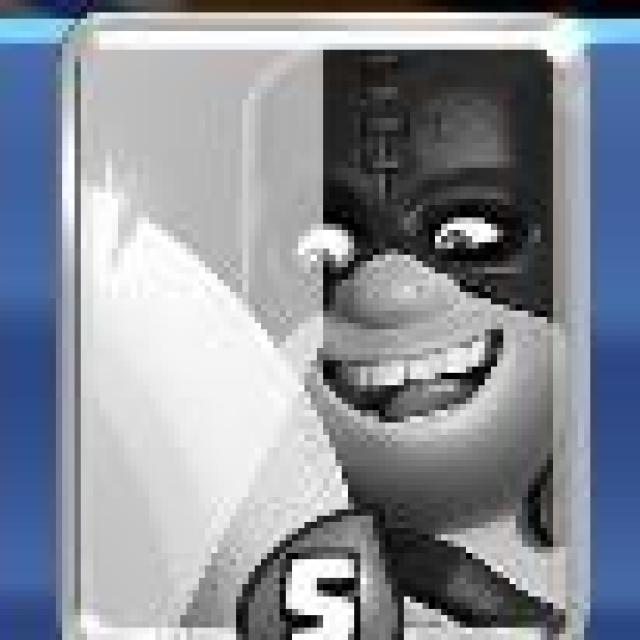Executioner: (56, 11, 592, 640)
